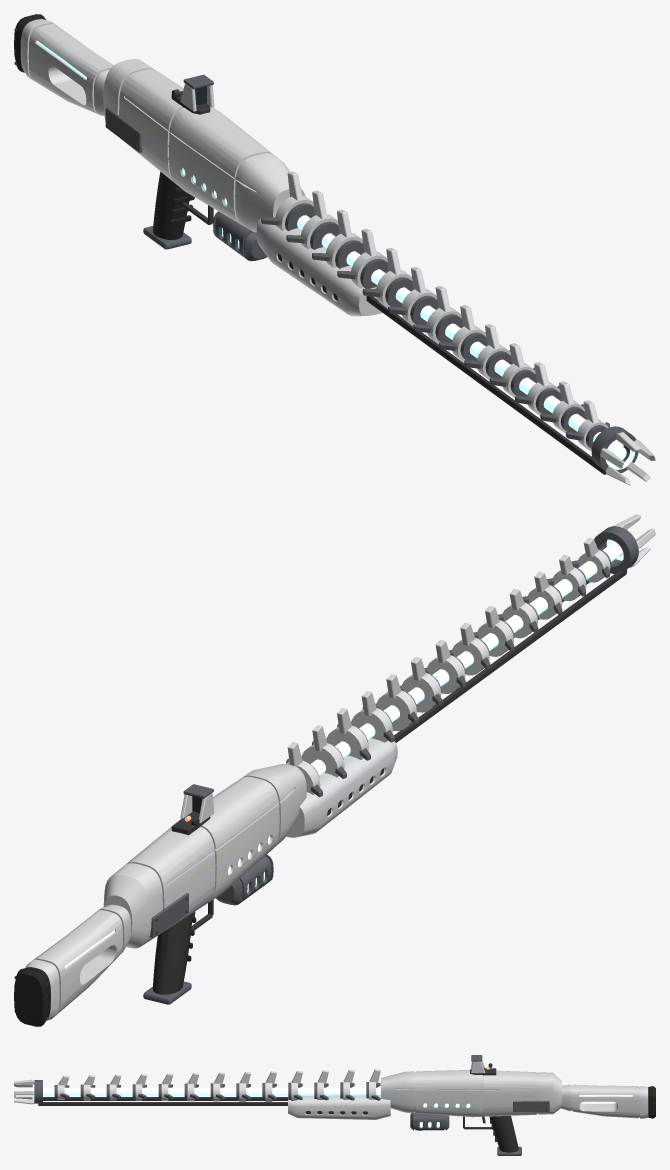
File: spine.glb
3 views of the same model, one above another, from view 1: azimuth 30°, elevation 25°; view 2: azimuth 150°, elevation 25°; view 3: azimuth 270°, elevation 25° (orthographic). The views are drawn at different scales.
Visible parts, largest first — view 1: Body; view 2: Body; view 3: Body.
Part boxes in pixels (box(x1,y1,x2,y2)): Body: box(14, 14, 655, 485); Body: box(14, 514, 655, 1026); Body: box(14, 1055, 655, 1155).
Bounding box in the file's own units: 0.0755 × 0.2154 × 1.31.
